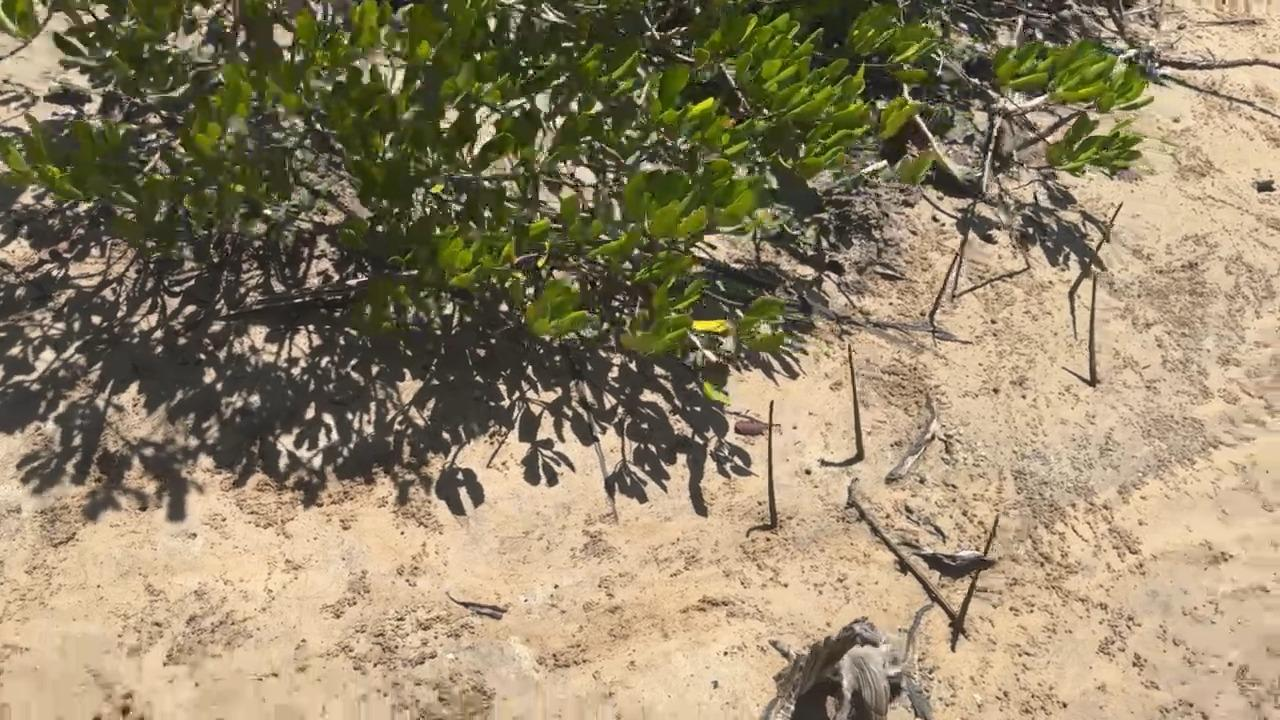Tree: (954, 515, 1001, 634), (1068, 201, 1125, 297), (987, 198, 1032, 271), (928, 248, 960, 320), (847, 343, 865, 459), (765, 400, 780, 529), (1088, 273, 1100, 387)
